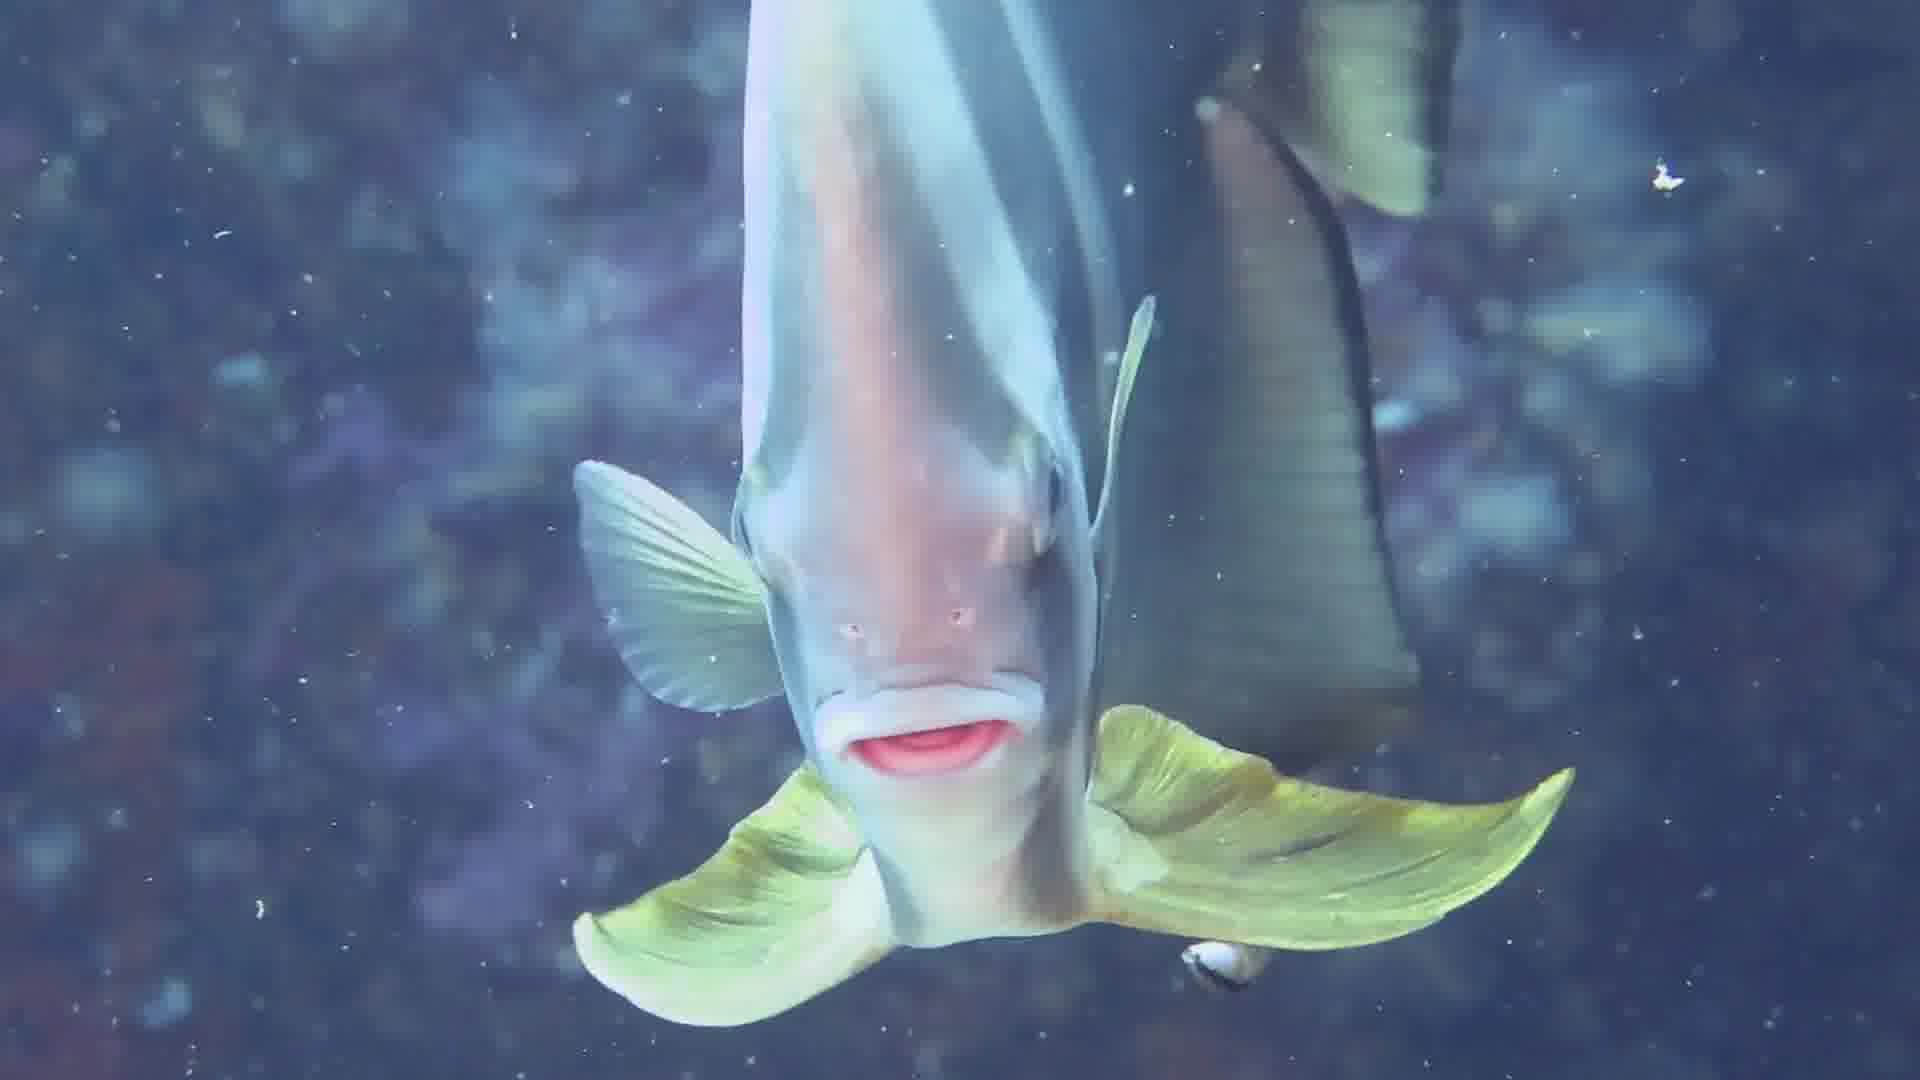Platax teira: (472, 1, 1619, 1033)
